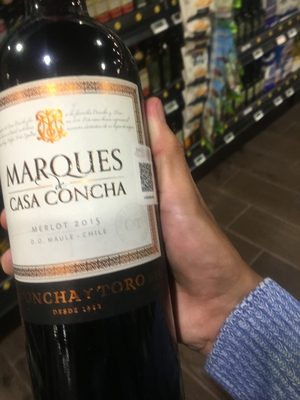marques de casa concha merlot: (2, 7, 188, 400)
